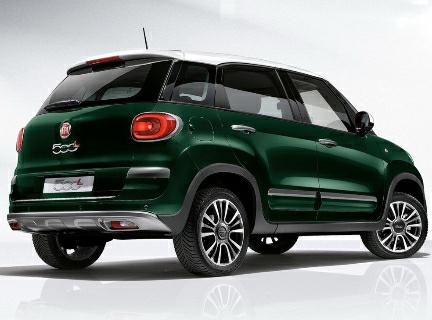菲亚特-500L: (2, 41, 430, 282)
